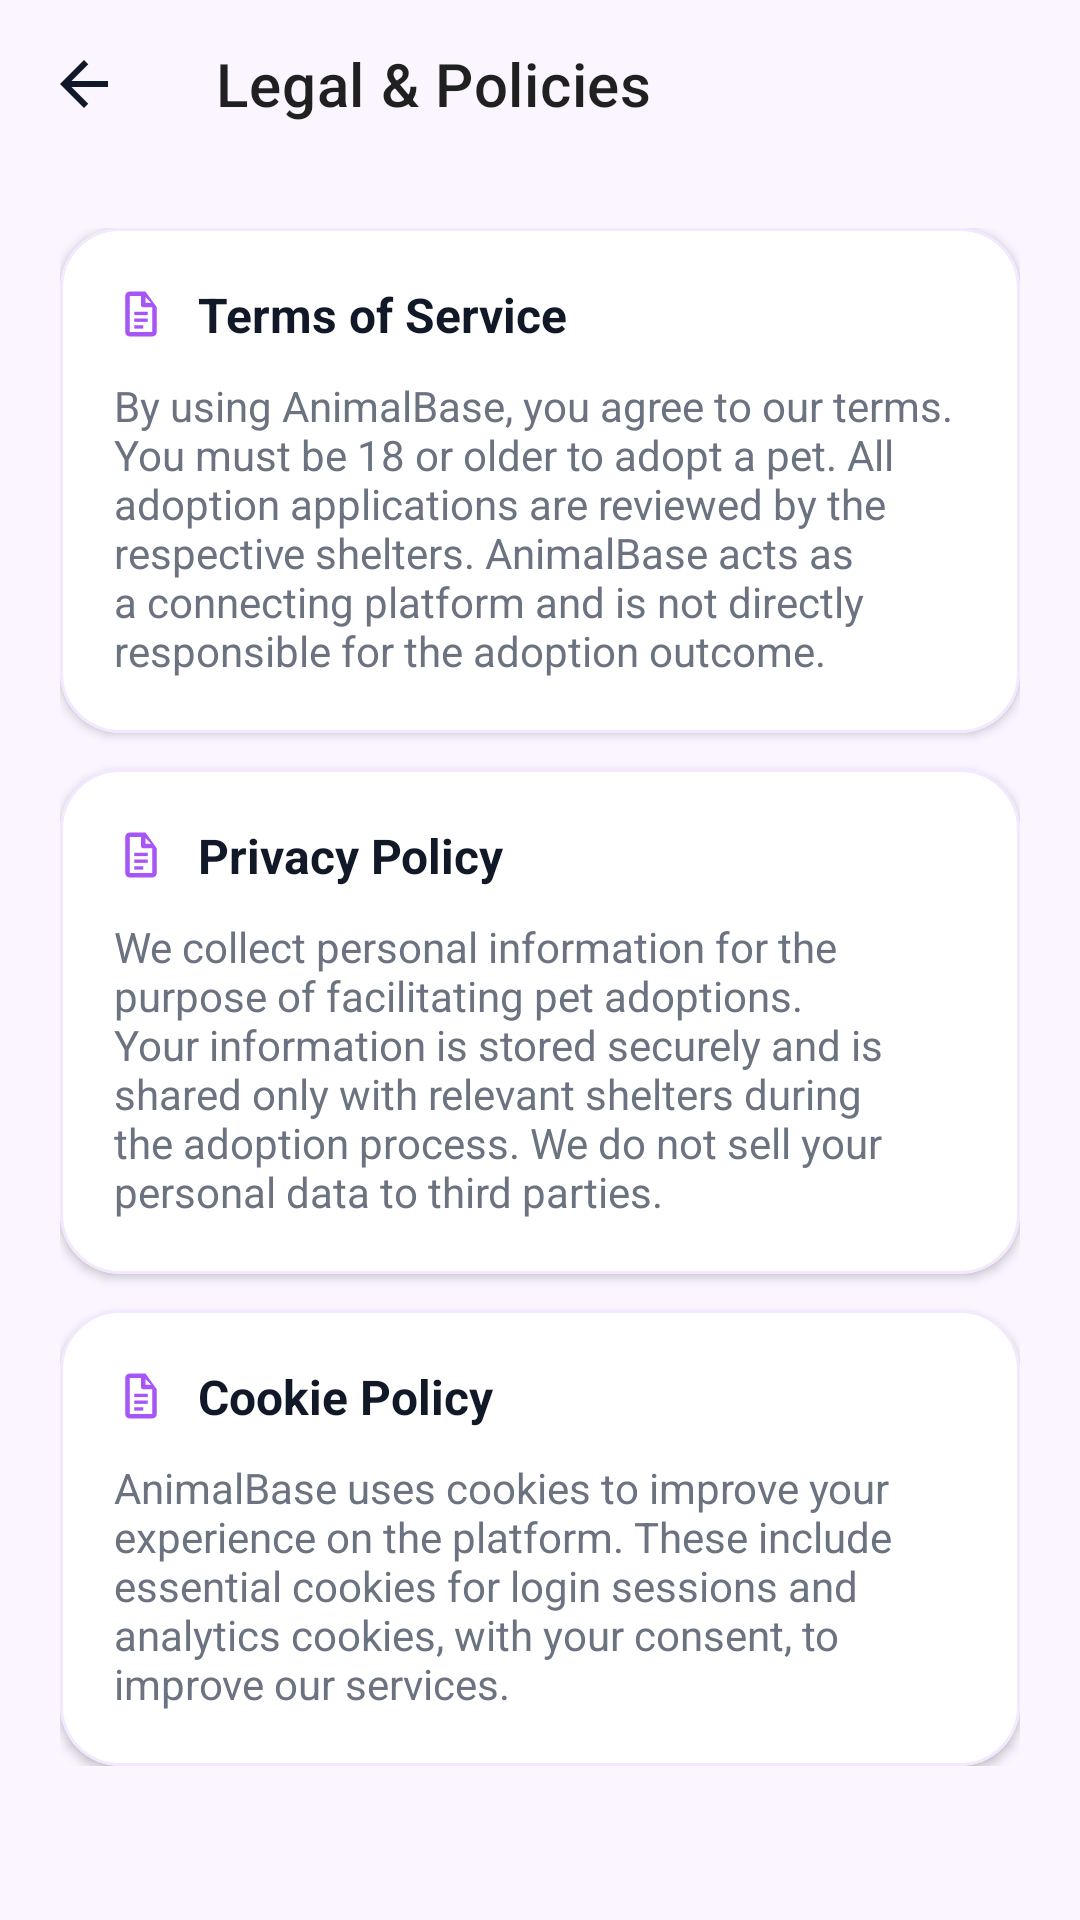

Screen size 1080*1920. Icon name, then its box in pixels as {"x1": x1, "y1": y1, "x2": x2, "y2": y2}:
file text: {"x1": 125, "y1": 291, "x2": 157, "y2": 337}, {"x1": 125, "y1": 832, "x2": 157, "y2": 878}, {"x1": 125, "y1": 1373, "x2": 157, "y2": 1419}
